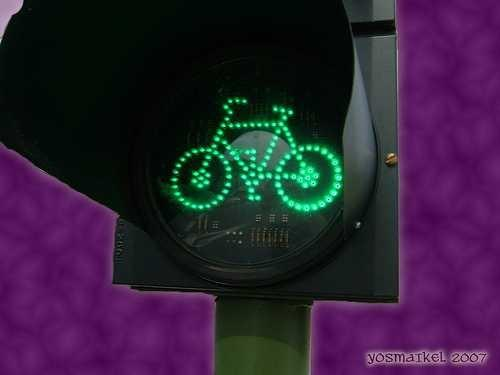green: (135, 47, 377, 278)
